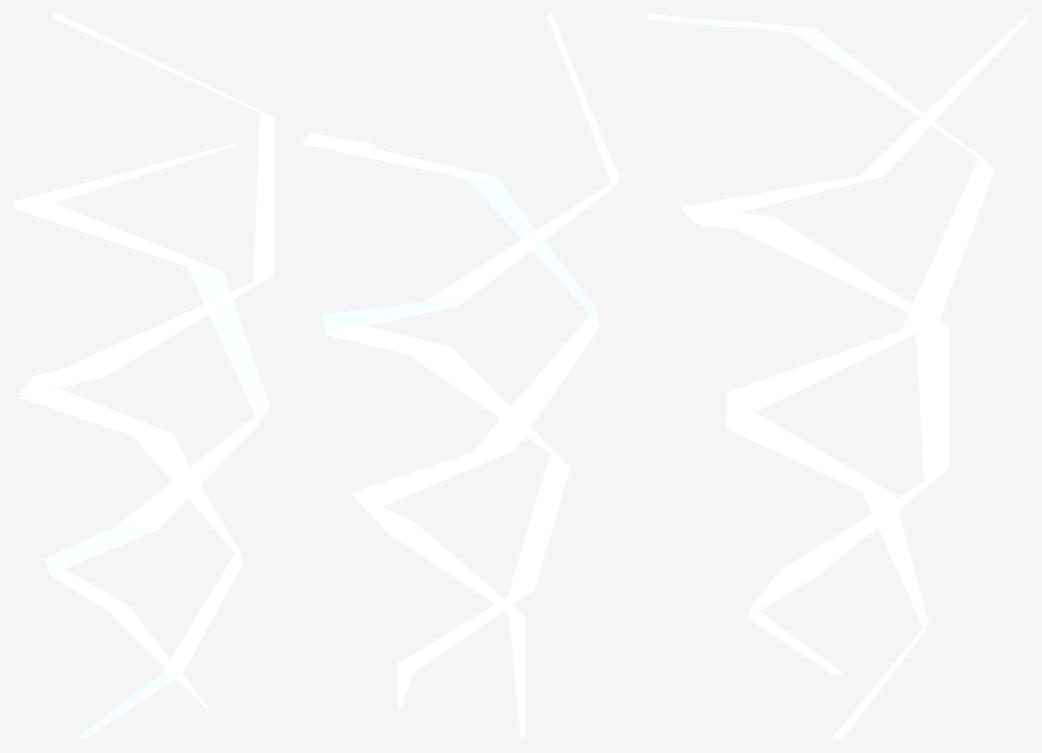
The model's file is SM_Env_UpdraftColumn_LQ.glb.
3 renders of one model, left to right at view 1: azimuth 30°, elevation 25°; view 2: azimuth 150°, elevation 25°; view 3: azimuth 270°, elevation 25°, orthographic. The views are drawn at different scales.
Visible parts, largest first — view 1: SM_Env_UpdraftColumn_LQ; view 2: SM_Env_UpdraftColumn_LQ; view 3: SM_Env_UpdraftColumn_LQ.
Boxes of the visible parts, x1,y1,x2,y2 form: SM_Env_UpdraftColumn_LQ: [14, 14, 274, 738]; SM_Env_UpdraftColumn_LQ: [303, 14, 619, 738]; SM_Env_UpdraftColumn_LQ: [648, 14, 1027, 738].
Size of the model in its own units: 18.39 by 40.15 by 20.
1 material, 1 textured.
